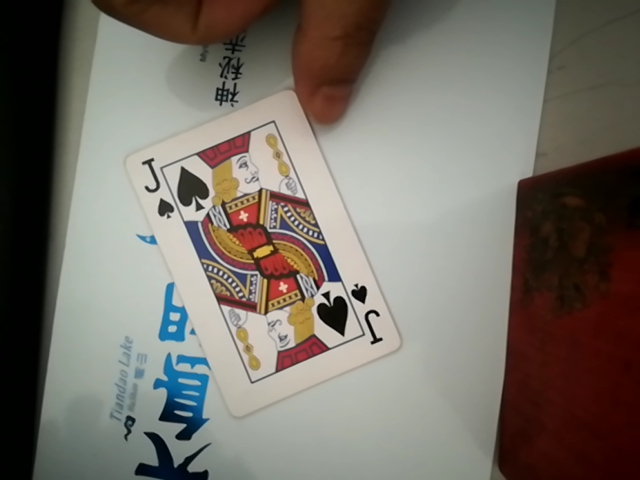ht j: (137, 73, 416, 432)
